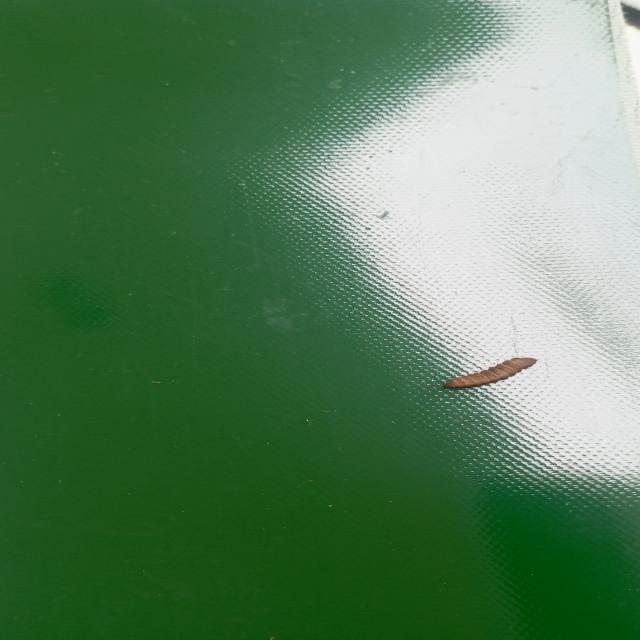Maggot: (444, 357, 538, 392)
